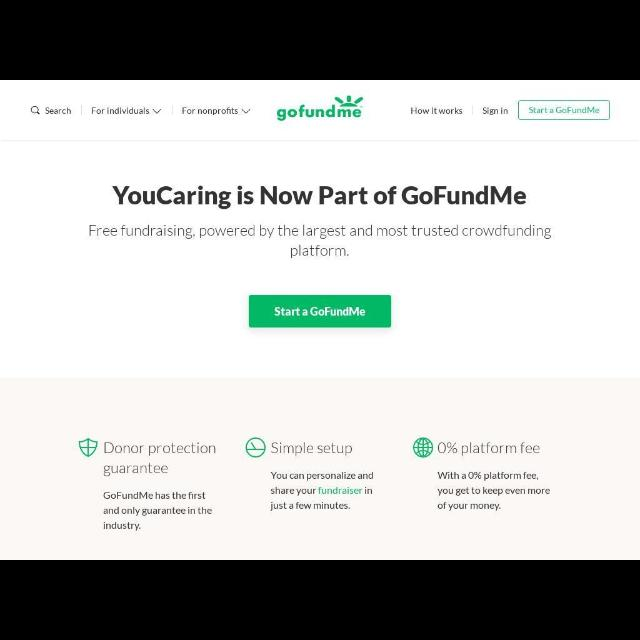icon: (244, 438, 266, 458), (412, 438, 433, 458), (80, 438, 98, 456), (30, 106, 40, 116), (241, 108, 251, 114), (152, 108, 160, 114)
image: (278, 95, 362, 122)
spinner: (174, 105, 256, 119), (82, 105, 174, 116)
text: (89, 224, 552, 258), (113, 186, 529, 206), (437, 470, 551, 510), (102, 440, 218, 478), (103, 490, 213, 530), (270, 470, 376, 510), (438, 442, 542, 454), (270, 442, 354, 456), (274, 306, 364, 318), (528, 106, 602, 116), (410, 106, 466, 115), (91, 106, 149, 114), (182, 108, 238, 114), (46, 106, 72, 116), (482, 108, 508, 114)
textbutton: (249, 296, 391, 326), (519, 101, 609, 119)
toolbar: (1, 81, 639, 140)
